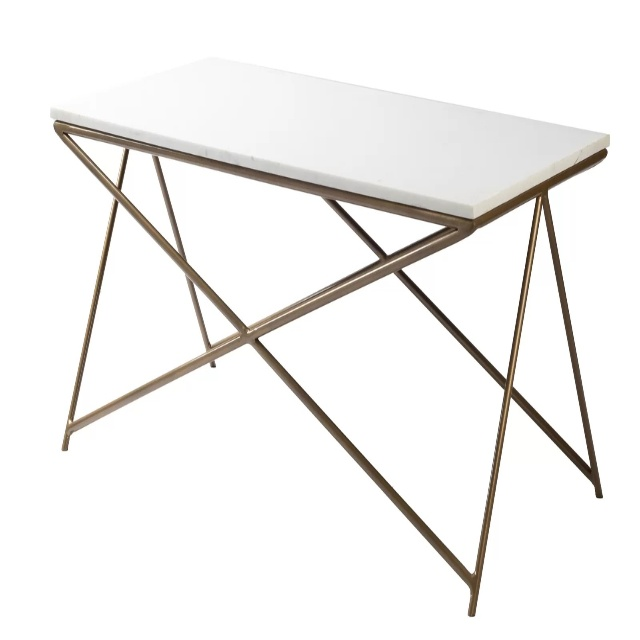obstacle: (52, 59, 608, 615)
